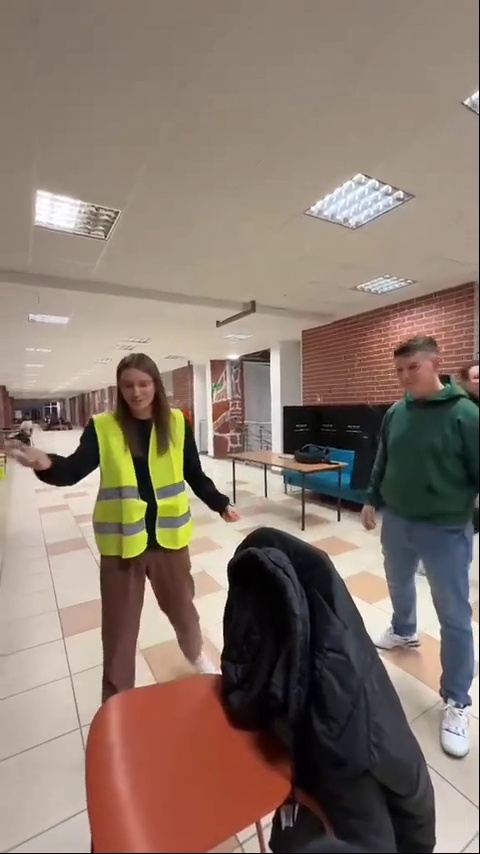no vest: (359, 331, 480, 761)
vest: (84, 347, 241, 694)
